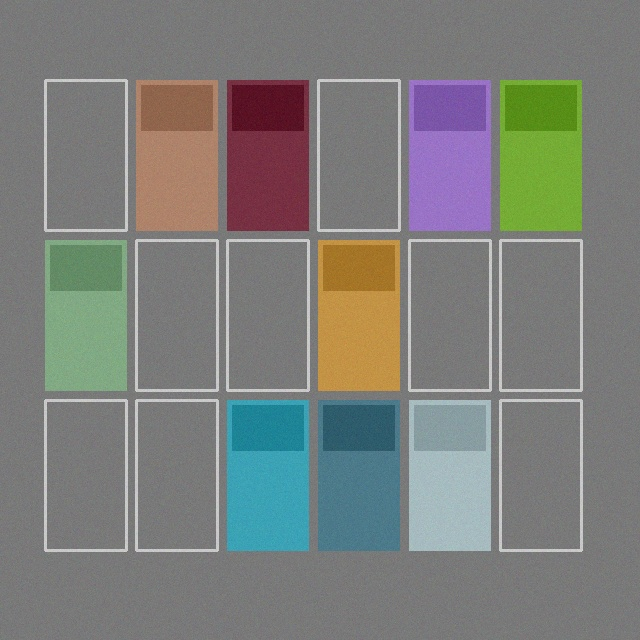space-empty: (45, 80, 126, 230), (318, 80, 399, 230), (136, 240, 217, 390), (227, 240, 308, 390), (409, 240, 490, 390), (500, 240, 581, 390), (45, 400, 126, 550), (136, 400, 217, 550), (500, 400, 581, 550)
space-occupied: (136, 80, 217, 230), (227, 80, 308, 230), (409, 80, 490, 230), (500, 80, 581, 230), (45, 240, 126, 390), (318, 240, 399, 390), (227, 400, 308, 550), (318, 400, 399, 550), (409, 400, 490, 550)
